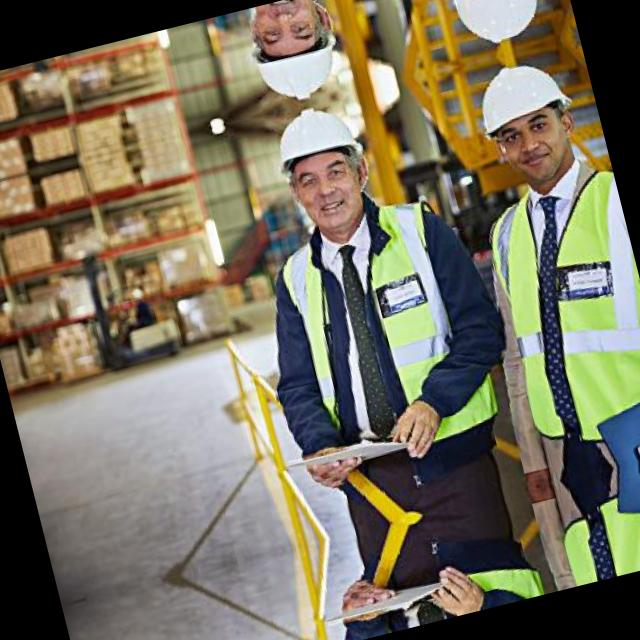helmet: (448, 48, 594, 202), (255, 91, 392, 248), (227, 0, 360, 115), (418, 0, 558, 59)
